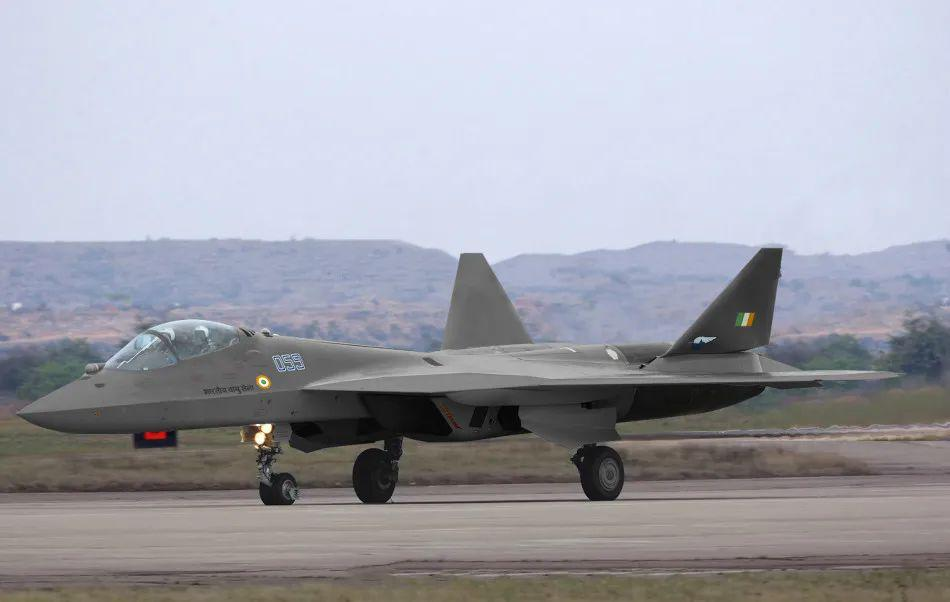airplane: (3, 244, 906, 510)
